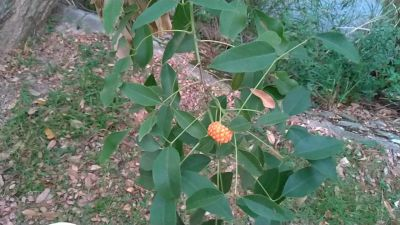eggs: (208, 118, 235, 145)
